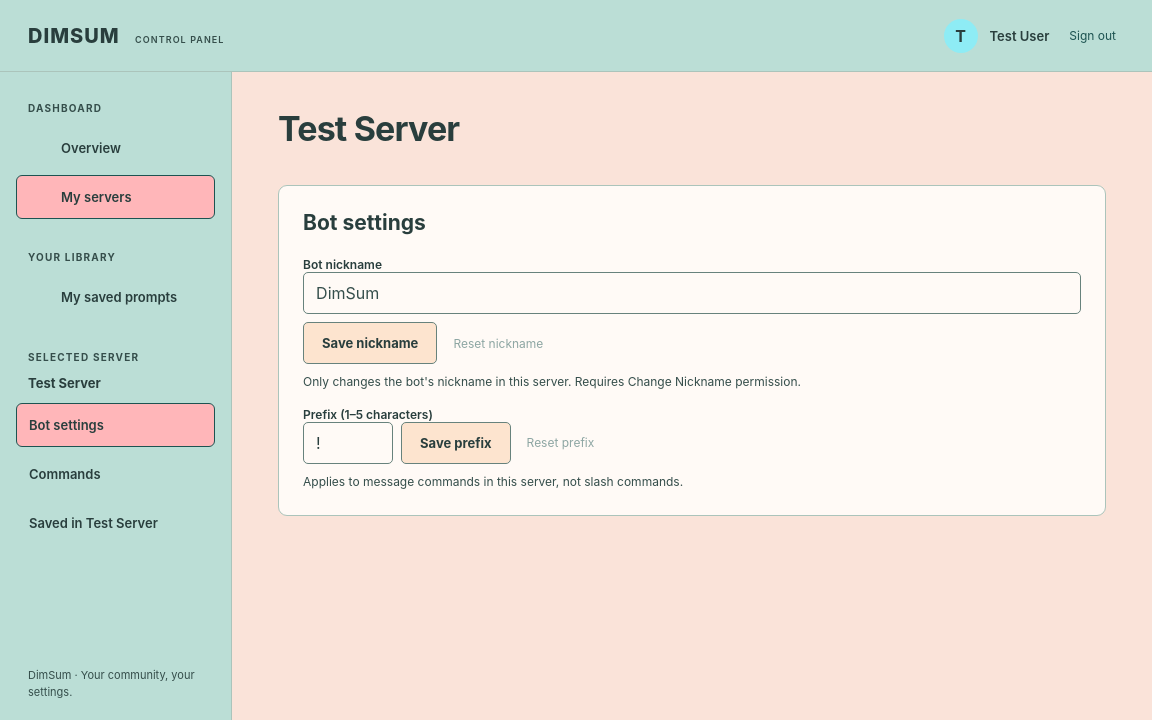
Test: bot settings edit nickname and prefix separately from command settings
Type "Dumpling" into the field labelled "Bot nickname" at [692, 293], box [303,272,1081,314]
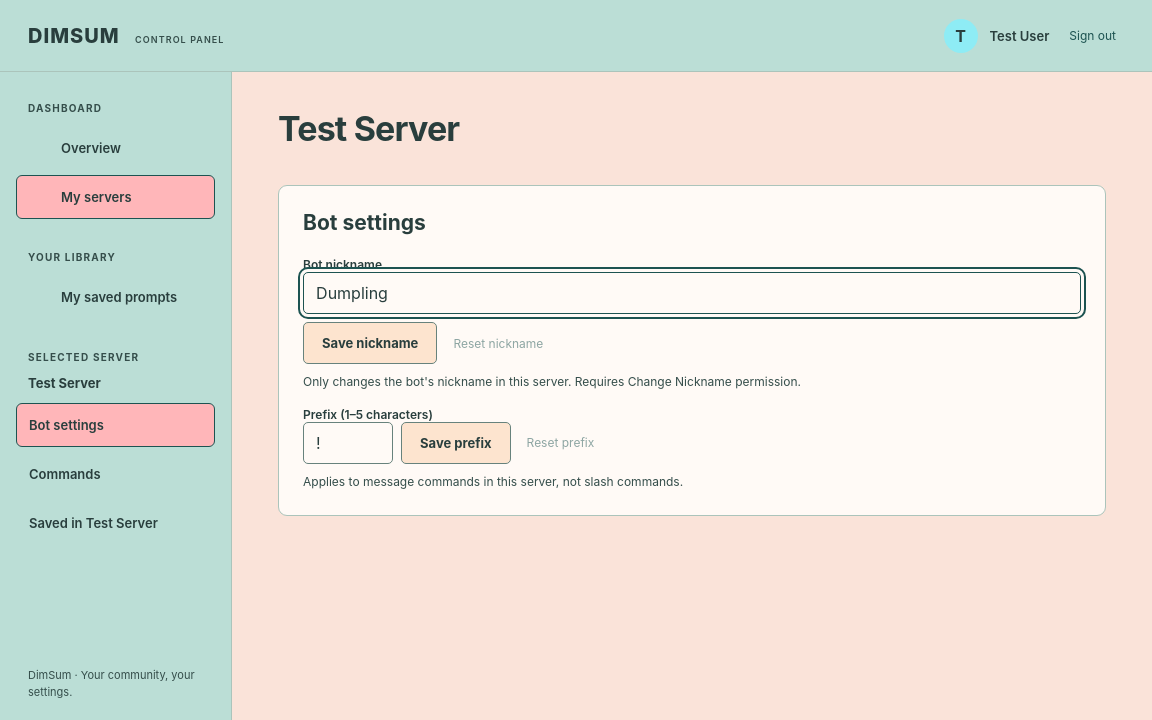
Click the button "Save nickname" at [370, 343], box [303,322,437,364]
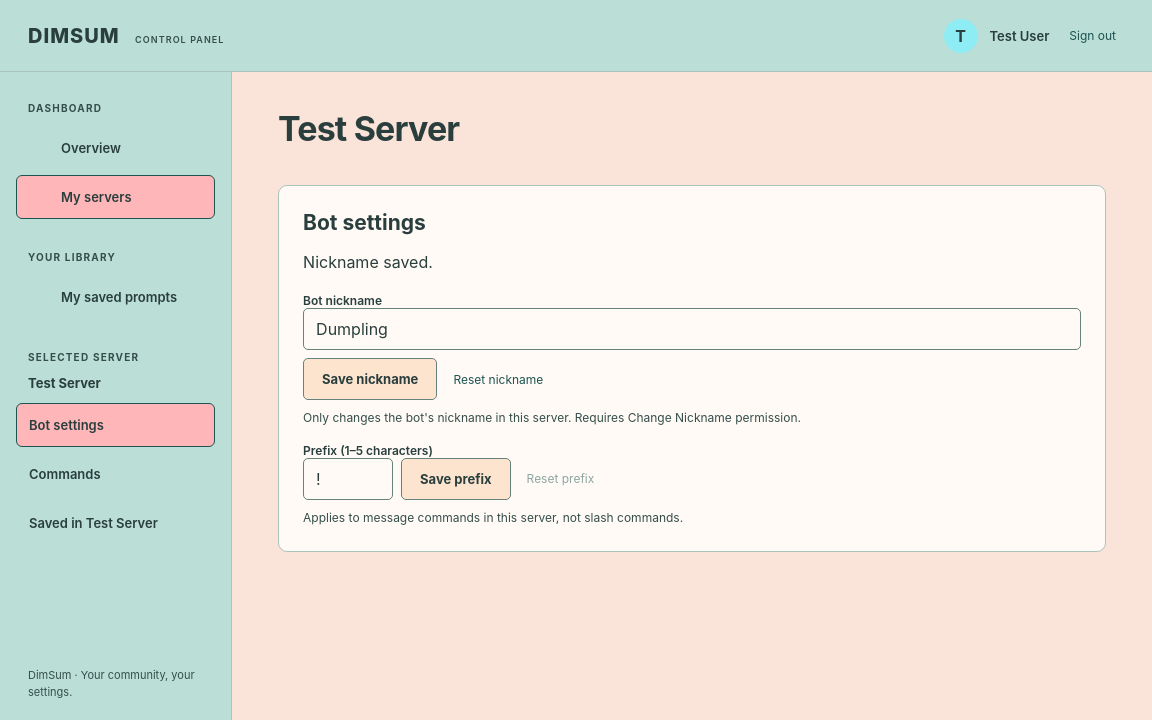
Expected: the text "Nickname saved." is shown, [303,252,433,272]
Replace the text in the field labelled "Prefix (1–5 characters)" with "??" at [348, 479], box [303,458,393,500]
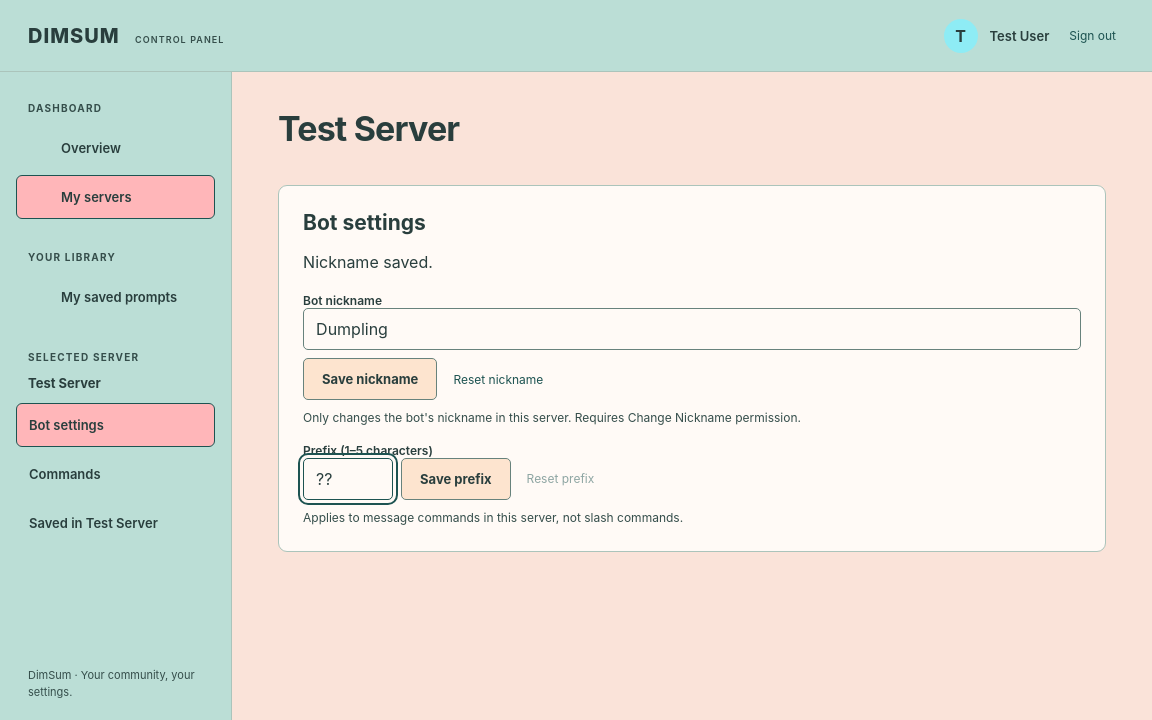
Click the button "Save prefix" at [456, 479], box [401,458,511,500]
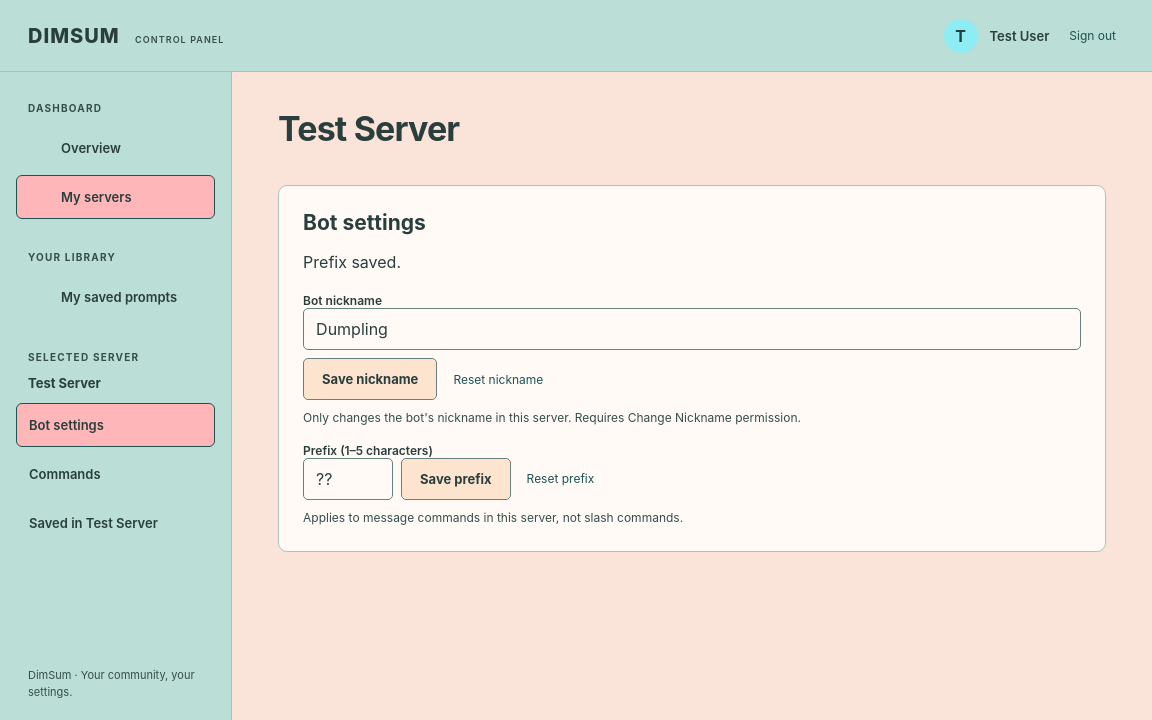
Expected: the text "Prefix saved." is shown, [303,252,401,272]
Click the button "Reset prefix" at [560, 479], box [519,463,602,494]
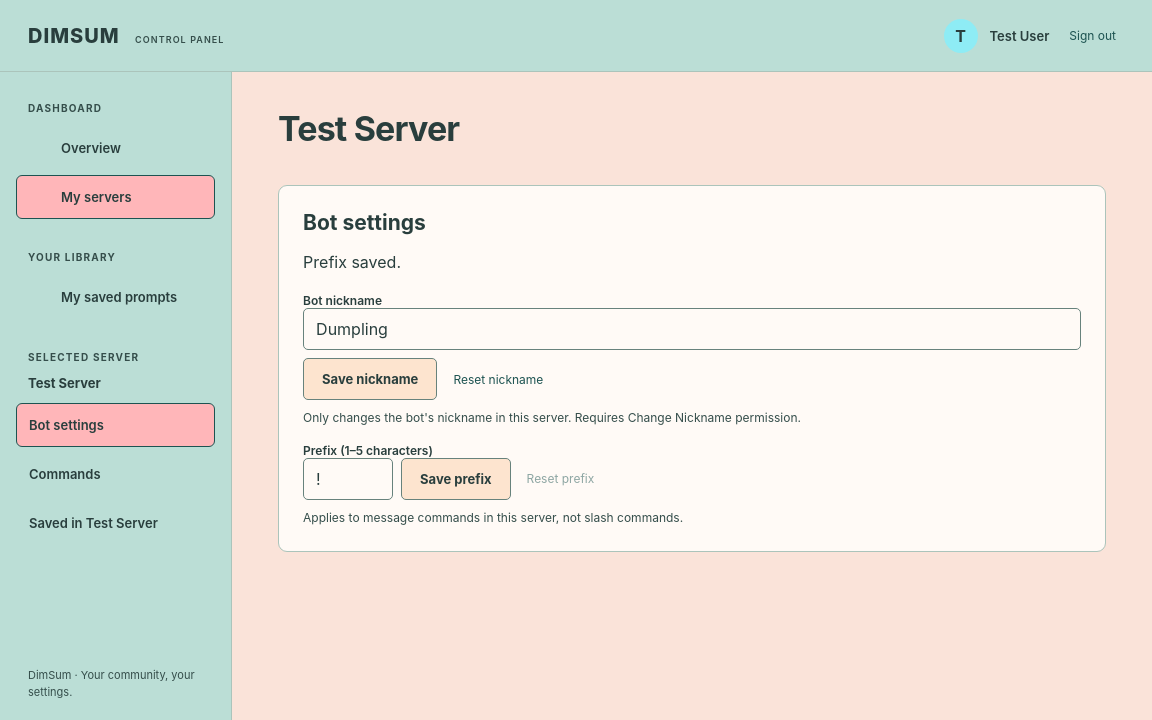
Expected: the field labelled "Prefix (1–5 characters)" holds "!", [303,458,393,500]
